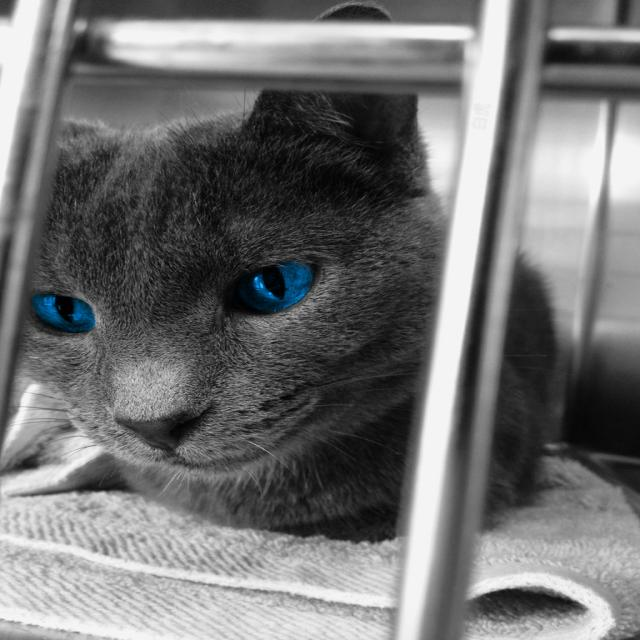Cat: (0, 1, 562, 542)
